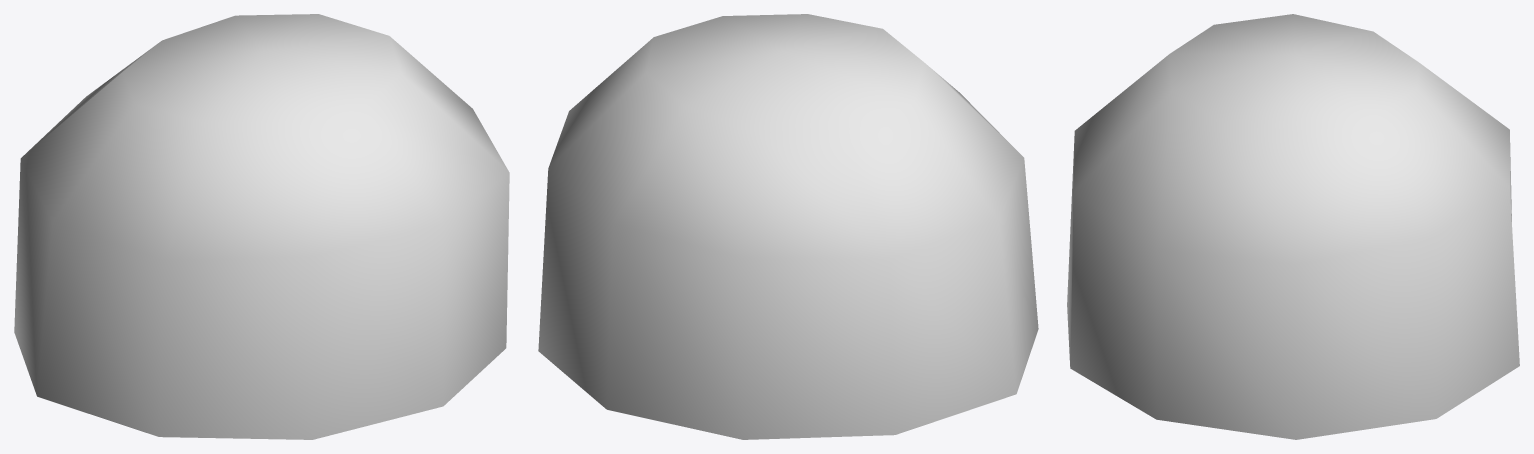
Rendered from item_rm_uranium_c.obj.
The picture shows the model from 3 angles, left to right: view 1: azimuth 30°, elevation 25°; view 2: azimuth 150°, elevation 25°; view 3: azimuth 270°, elevation 25°; orthographic projection. The views are drawn at different scales.
Visible parts, largest first — view 1: item_rm_uranium_c; view 2: item_rm_uranium_c; view 3: item_rm_uranium_c.
Part boxes in pixels (bbox=[...]): item_rm_uranium_c: bbox=[14, 14, 509, 439]; item_rm_uranium_c: bbox=[538, 14, 1038, 439]; item_rm_uranium_c: bbox=[1067, 14, 1519, 439].
Bounding box in the file's own units: 0.7328 × 0.452 × 0.6596.
